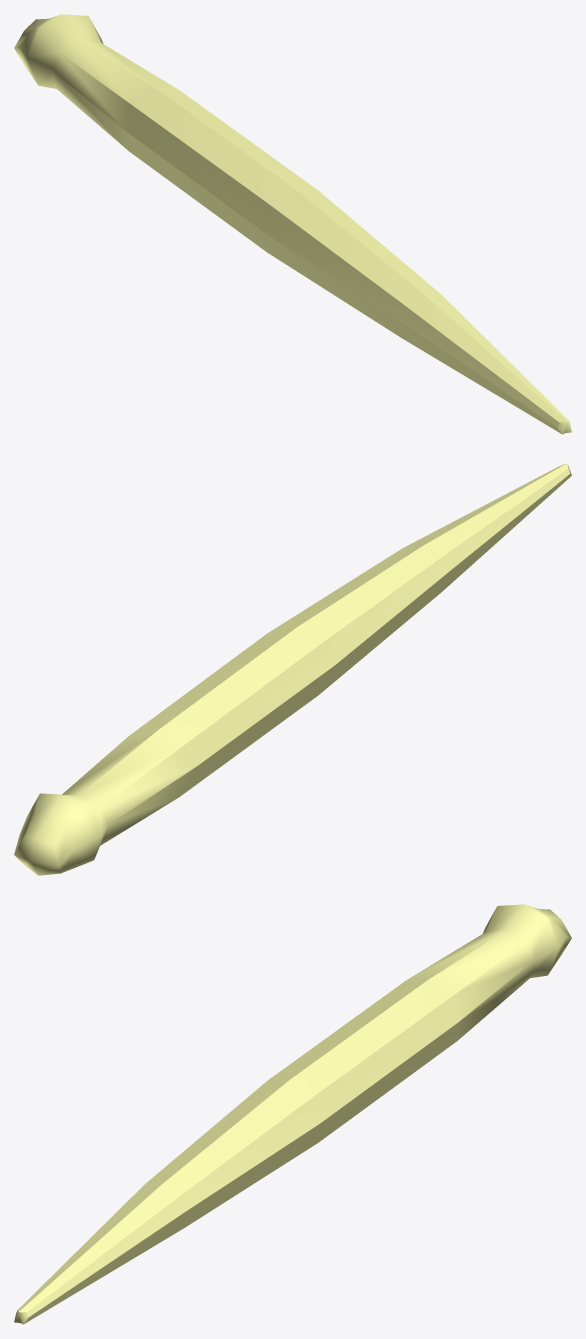
Rendered from python.fbx.
3 renders of one model, top to bottom at view 1: azimuth 30°, elevation 25°; view 2: azimuth 150°, elevation 25°; view 3: azimuth 330°, elevation 25°, orthographic.
Visible parts, largest first — view 1: pCube1; view 2: pCube1; view 3: pCube1.
Boxes of the visible parts, box(x1,y1,x2,y2) form: pCube1: box(14, 14, 571, 434); pCube1: box(14, 463, 571, 875); pCube1: box(14, 904, 571, 1324).
Bounding box in the file's own units: 1 × 0.9056 × 12.42.
